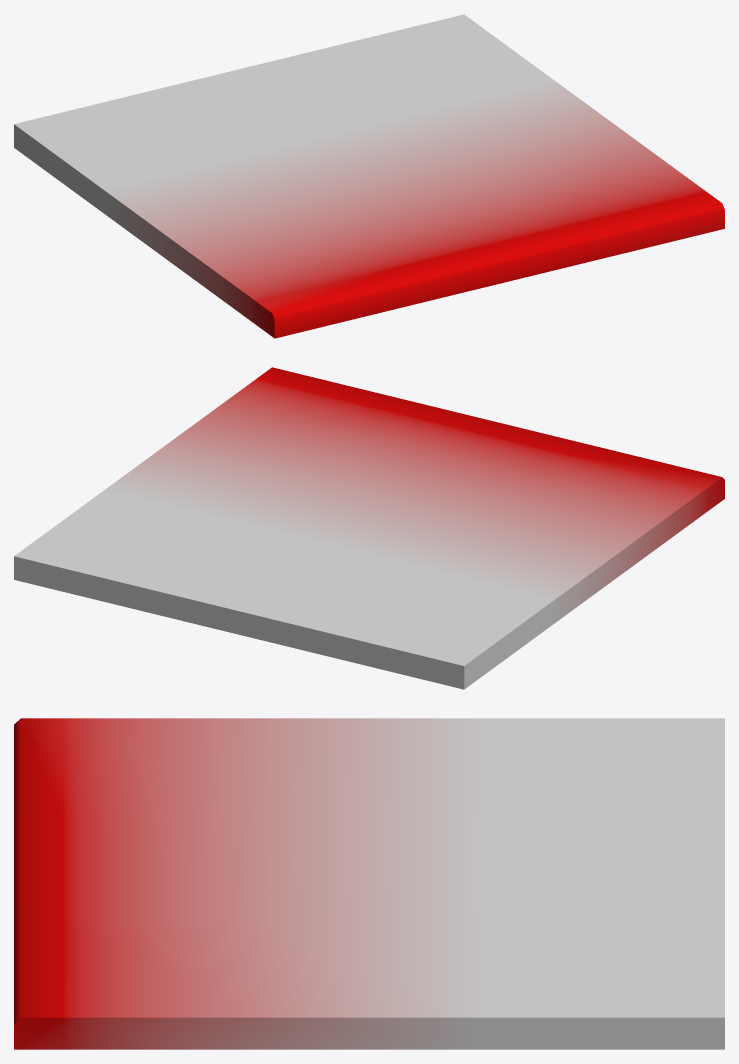
Rendered from Sidewalk_Straight_3m.gltf.
3 views of the same model, one above another, from view 1: azimuth 30°, elevation 25°; view 2: azimuth 150°, elevation 25°; view 3: azimuth 270°, elevation 25° (orthographic). The views are drawn at different scales.
Parts seen in each view (by area): view 1: Sidewalk_Straight_3m; view 2: Sidewalk_Straight_3m; view 3: Sidewalk_Straight_3m.
Boxes of the visible parts, x1,y1,x2,y2 form: Sidewalk_Straight_3m: (14, 14, 724, 338); Sidewalk_Straight_3m: (14, 367, 724, 689); Sidewalk_Straight_3m: (14, 718, 724, 1049).
Bounding box in the file's own units: 3 × 0.15 × 3.01.
